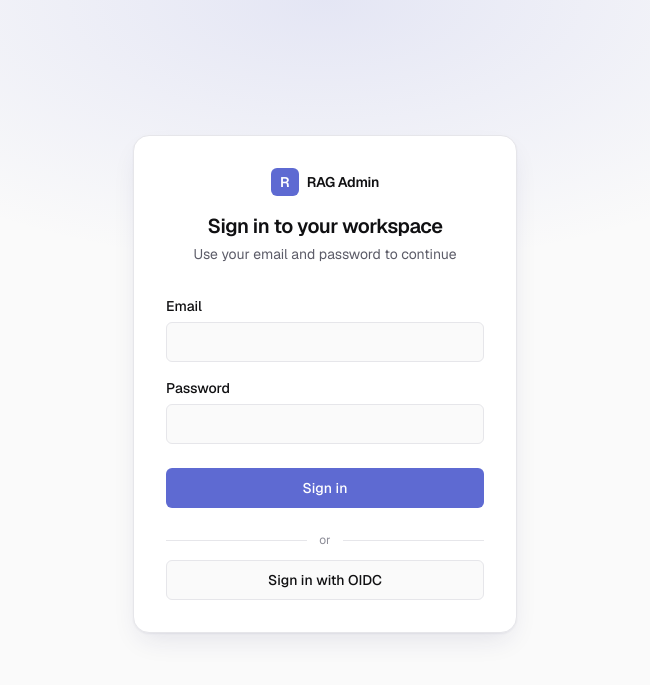
Test: LoginPage › shows a lockout message when login rejects with a 429 LoginFailed
Type "a@b.com" into the field labelled "Email" at x=325, y=342, box [166,322,484,362]
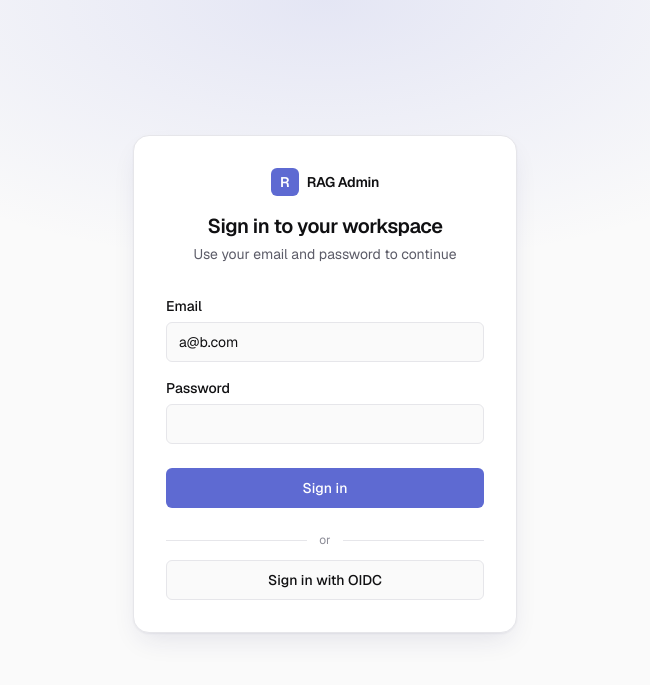
Type "wrong" into the password field labelled "Password" at x=325, y=424, box [166,404,484,444]
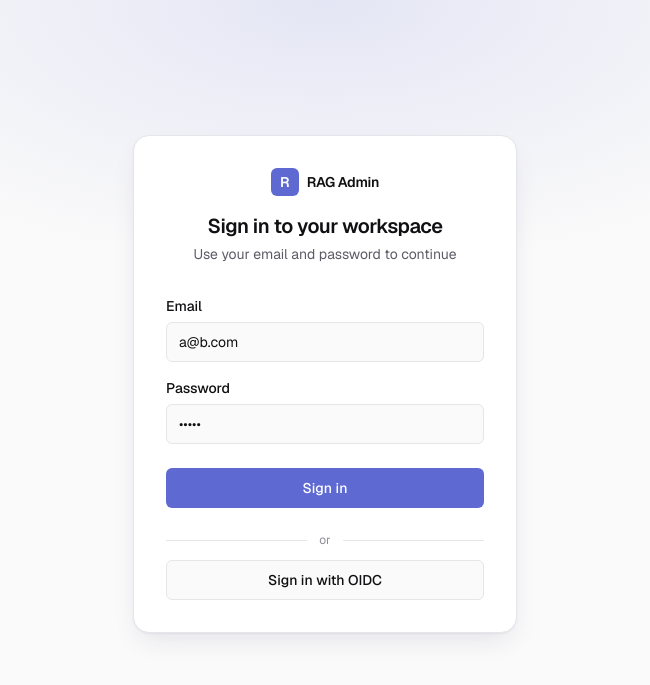
Click the button "Sign in" at x=325, y=488, box [166,468,484,508]
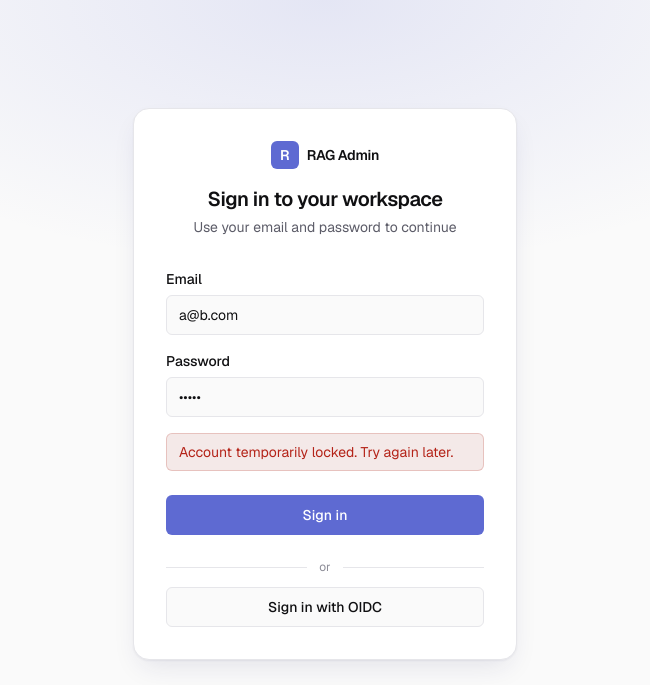
Result: the text "Account temporarily locked. Try again later." is shown at [166,433,484,471]
